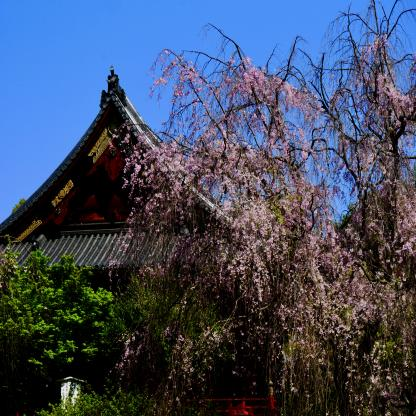ShidareZakura: (109, 0, 416, 416)
